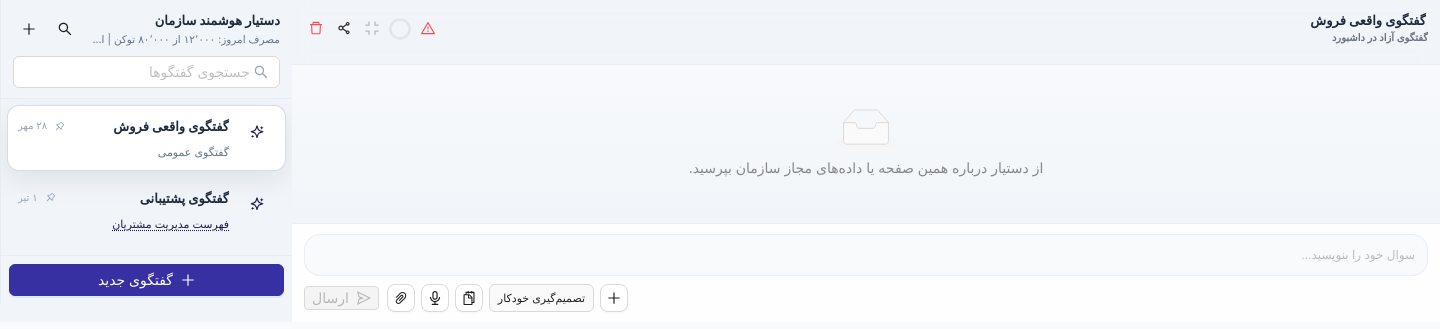
Test: AiChatSurfaceV2 › asks before deleting the active thread
Expected: the text "گفتگوی واقعی فروش" below "دستیار هوشمند سازمان" is shown, [113,118,229,134]
Step 1. Click the button named "حذف گفتگوی هوش مصنوعی" → point(316, 28), box [304,16,328,40]
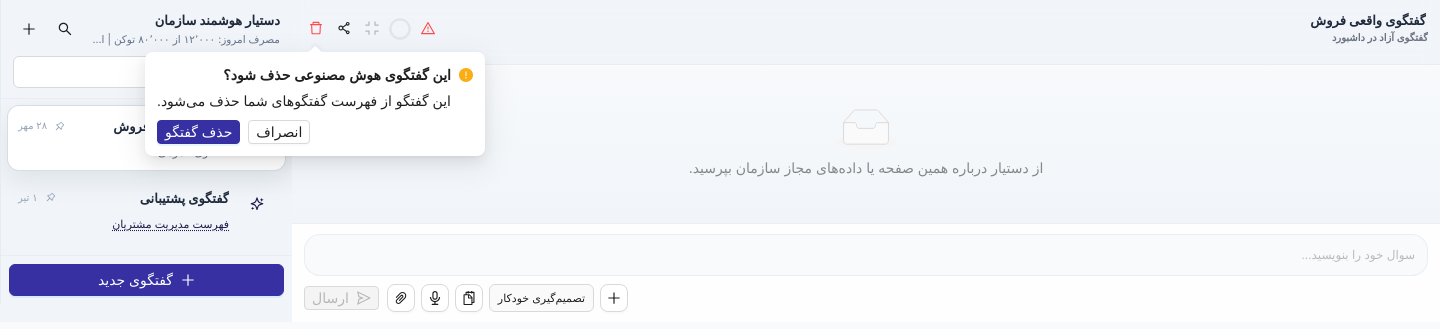
Expected: the text "این گفتگوی هوش مصنوعی حذف شود؟" is shown, [223,67,451,83]
Step 2. Click the button "حذف گفتگو" → point(199, 132), box [157,120,240,144]
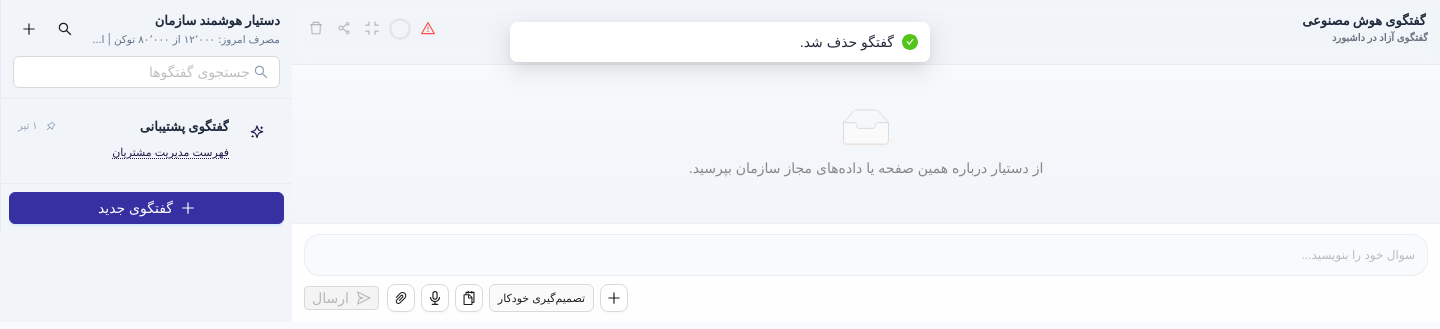
Expected: the button "گفتگوی واقعی فروش" is gone
